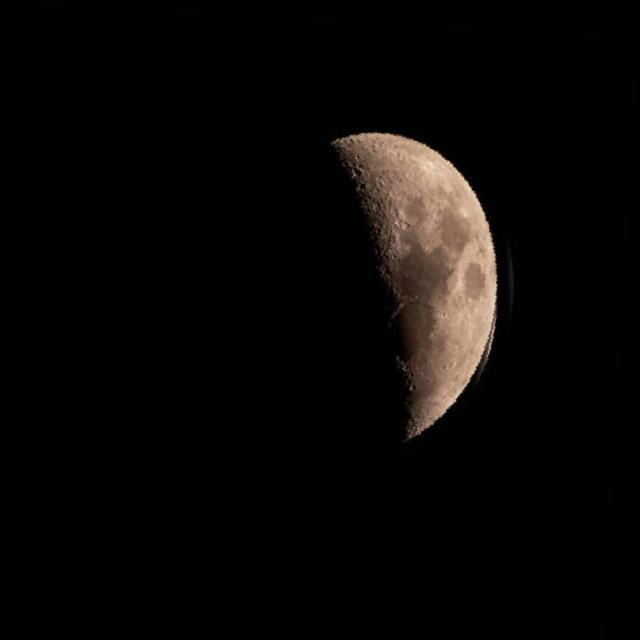moon: (236, 118, 542, 474)
